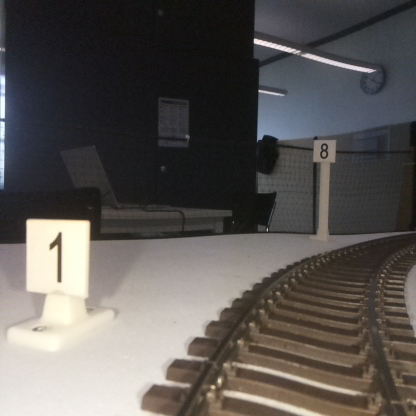white-info-8: (313, 140, 335, 238)
white-stop-1: (26, 219, 89, 341)
